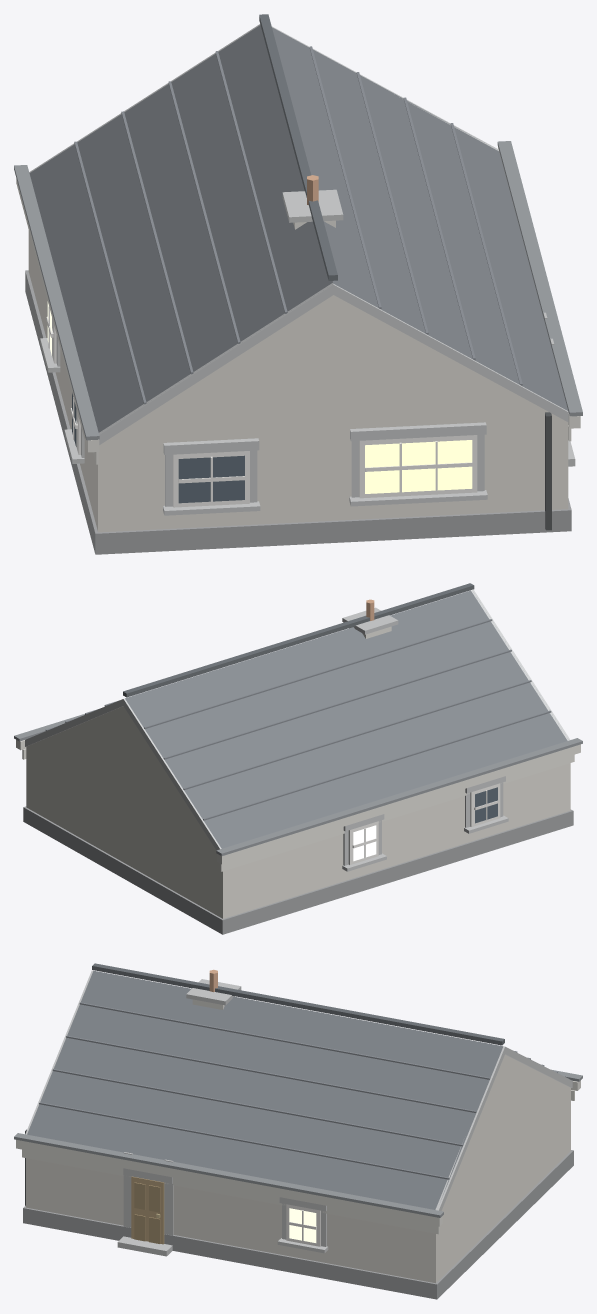
3 views of the same model, one above another, from view 1: azimuth 30°, elevation 25°; view 2: azimuth 150°, elevation 25°; view 3: azimuth 270°, elevation 25° (orthographic). The views are drawn at different scales.
Visible parts, largest first — view 1: slate, harl_grey, stone_band, plinth, lead, windows, slate_lt, frame, slate_dk, string, pipe; view 2: slate, harl_grey, plinth, string, stone_band, slate_lt, lead, slate_dk, windows, frame; view 3: slate, harl_grey, plinth, string, stone_band, slate_lt, lead, slate_dk, door_wood_p, door_wood, windows, frame.
Boxes of the visible parts, left/top/right/bottom form: slate: left=29, top=25, right=567, bottom=432; harl_grey: left=28, top=152, right=568, bottom=532; stone_band: left=29, top=24, right=575, bottom=515; plinth: left=25, top=270, right=571, bottom=554; lead: left=14, top=141, right=582, bottom=440; windows: left=47, top=301, right=472, bottom=503; slate_lt: left=74, top=46, right=522, bottom=404; frame: left=46, top=306, right=477, bottom=507; slate_dk: left=259, top=14, right=337, bottom=280; string: left=16, top=147, right=580, bottom=464; pipe: left=545, top=412, right=551, bottom=530; slate: left=125, top=590, right=567, bottom=848; harl_grey: left=26, top=706, right=570, bottom=918; plinth: left=23, top=806, right=573, bottom=934; string: left=16, top=740, right=580, bottom=871; stone_band: left=25, top=589, right=570, bottom=871; slate_lt: left=45, top=619, right=551, bottom=820; lead: left=14, top=714, right=582, bottom=856; slate_dk: left=123, top=583, right=474, bottom=697; windows: left=353, top=787, right=497, bottom=861; frame: left=348, top=783, right=500, bottom=864; slate: left=27, top=970, right=503, bottom=1209; harl_grey: left=26, top=1054, right=570, bottom=1283; plinth: left=23, top=1150, right=573, bottom=1299; string: left=16, top=1080, right=580, bottom=1234; stone_band: left=25, top=970, right=572, bottom=1256; slate_lt: left=39, top=1002, right=557, bottom=1179; lead: left=14, top=1069, right=582, bottom=1217; slate_dk: left=92, top=963, right=504, bottom=1045; door_wood_p: left=134, top=1182, right=160, bottom=1243; door_wood: left=131, top=1176, right=164, bottom=1244; windows: left=289, top=1208, right=316, bottom=1242; frame: left=286, top=1204, right=320, bottom=1246.
Size of the model in its own units: 13.97 by 6.17 by 15.37.
